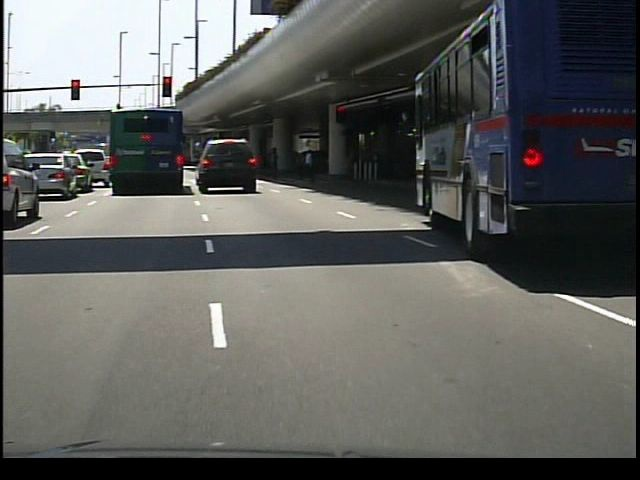person: (266, 143, 288, 183), (299, 148, 319, 185)
